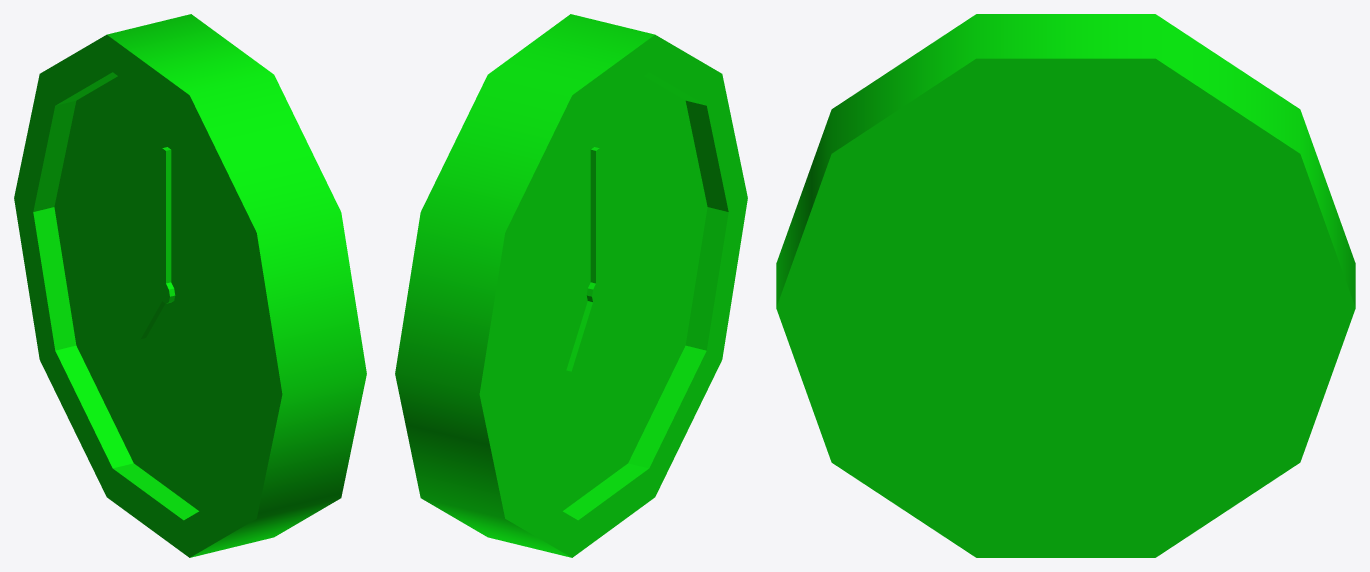
Rendered from Clock.fbx.
3 views of the same model, side by side, from view 1: azimuth 30°, elevation 25°; view 2: azimuth 150°, elevation 25°; view 3: azimuth 270°, elevation 25° (orthographic). The views are drawn at different scales.
Parts seen in each view (by area): view 1: Hall Clock; view 2: Hall Clock; view 3: Hall Clock.
Part boxes in pixels (x1=…): Hall Clock: x1=14, y1=14, x2=366, y2=557; Hall Clock: x1=395, y1=14, x2=747, y2=557; Hall Clock: x1=776, y1=14, x2=1355, y2=557.
Bounding box in the file's own units: 4 × 20.92 × 22.
